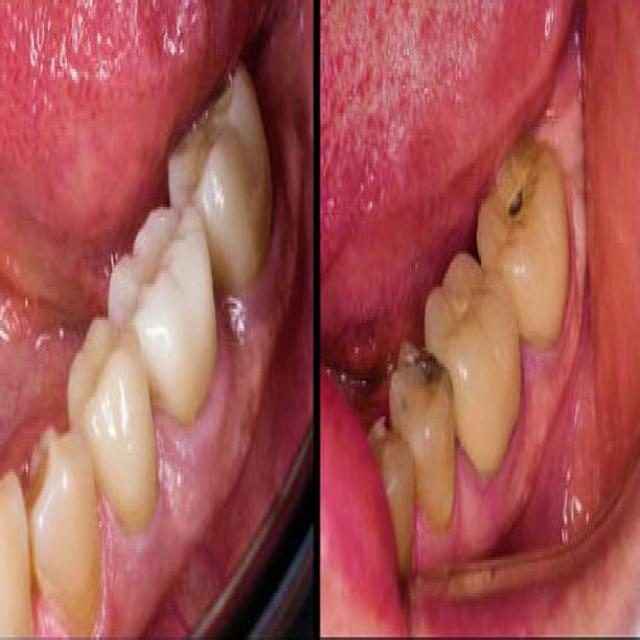caries: (494, 162, 531, 241), (411, 334, 440, 397)
